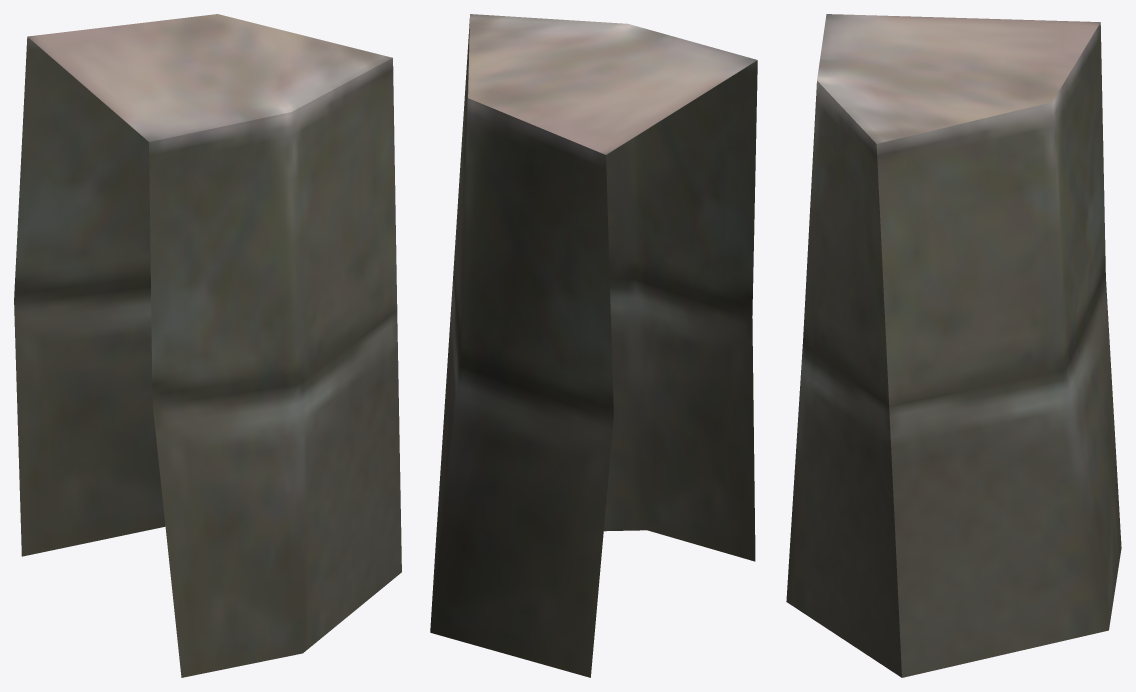
The model's file is shitou03.FBX.
3 views of the same model, side by side, from view 1: azimuth 30°, elevation 25°; view 2: azimuth 150°, elevation 25°; view 3: azimuth 270°, elevation 25° (orthographic). The views are drawn at different scales.
Visible parts, largest first — view 1: 对象001; view 2: 对象001; view 3: 对象001.
Part boxes in pixels (left/top/right/bottom): 对象001: left=14, top=14, right=401, bottom=677; 对象001: left=430, top=14, right=757, bottom=677; 对象001: left=786, top=14, right=1121, bottom=677.
Size of the model in its own units: 2.17 by 3.77 by 2.18.
